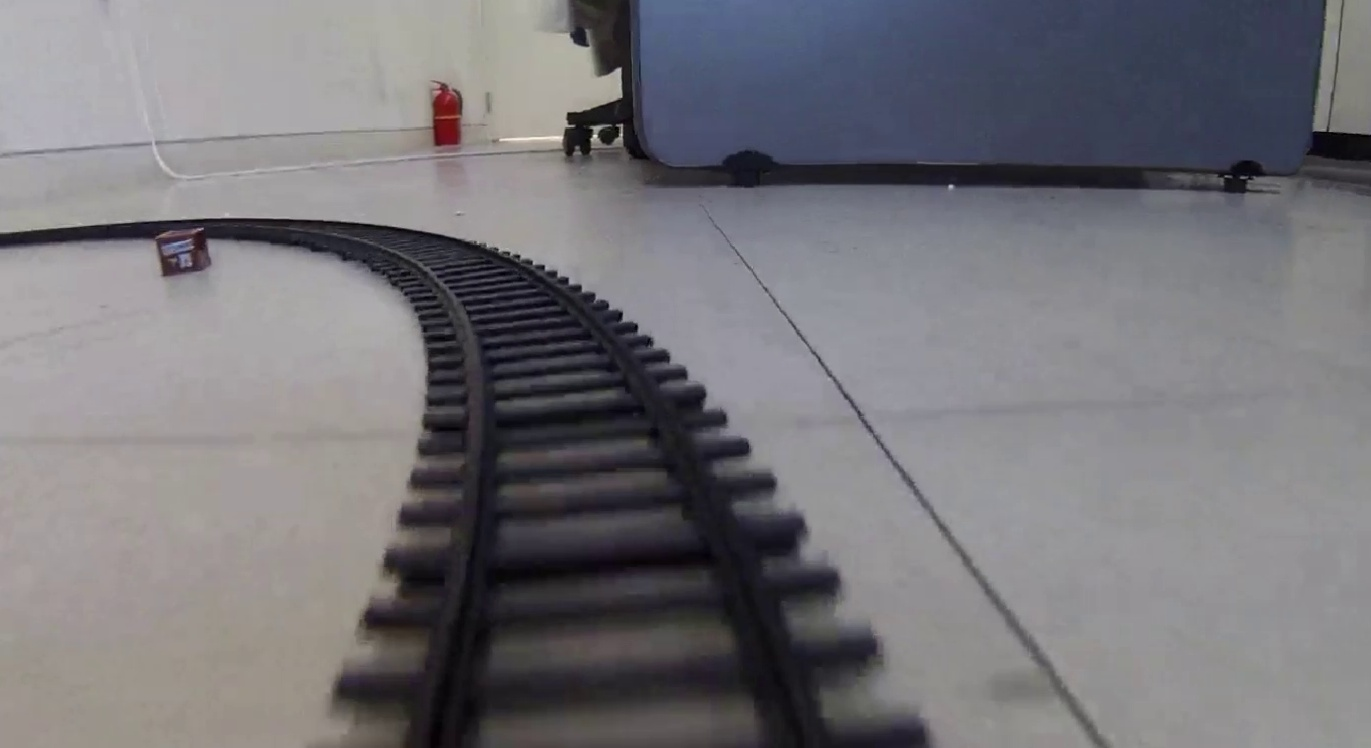box: (156, 229, 212, 276)
